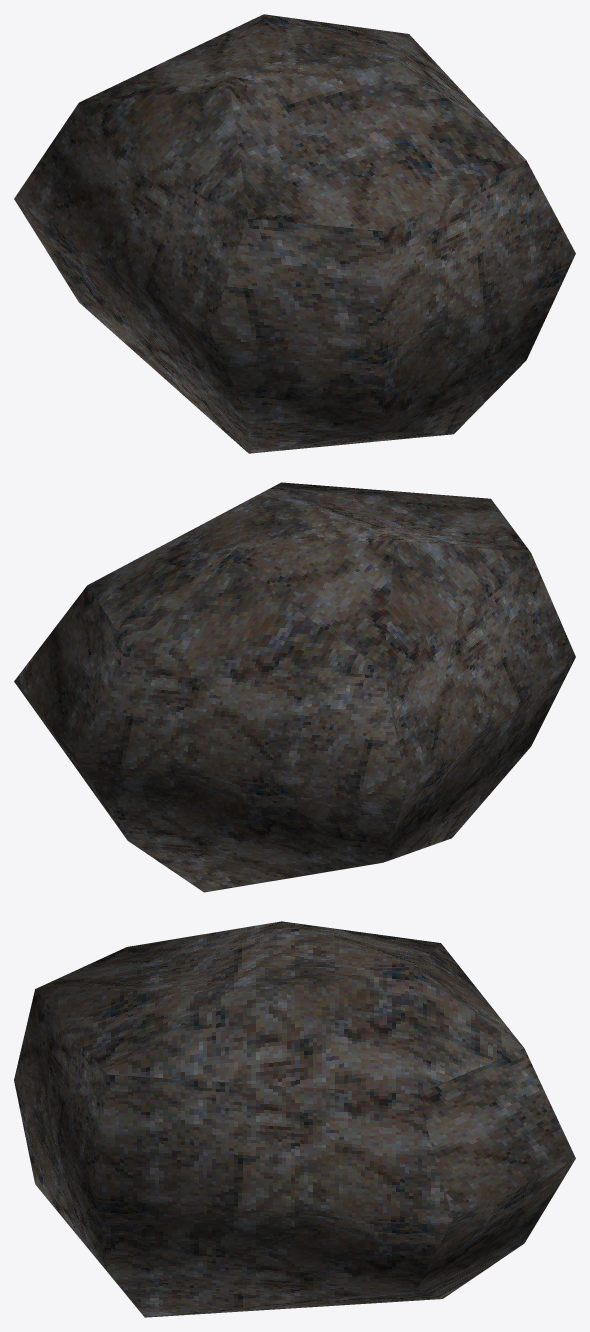
File: KEDROCK_ACTORDEF.fbx
3 renders of one model, top to bottom at view 1: azimuth 30°, elevation 25°; view 2: azimuth 150°, elevation 25°; view 3: azimuth 270°, elevation 25°, orthographic. The views are drawn at different scales.
Parts seen in each view (by area): view 1: U3DMesh; view 2: U3DMesh; view 3: U3DMesh.
Part boxes in pixels (box(x1,y1,x2,y2)): U3DMesh: box(14, 14, 575, 453); U3DMesh: box(14, 482, 575, 892); U3DMesh: box(14, 921, 575, 1317).
Size of the model in its own units: 19.35 by 14.57 by 22.97.
